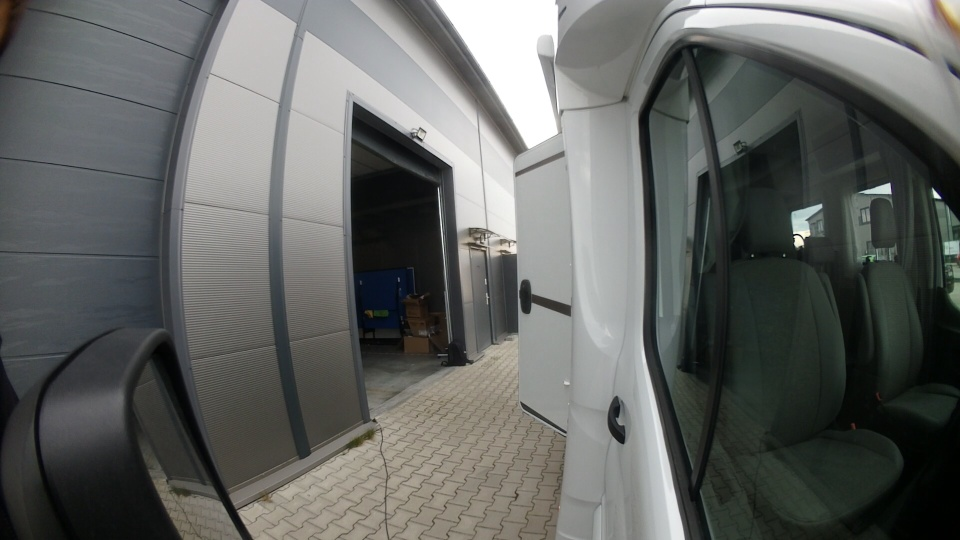door_front: (507, 130, 587, 441)
